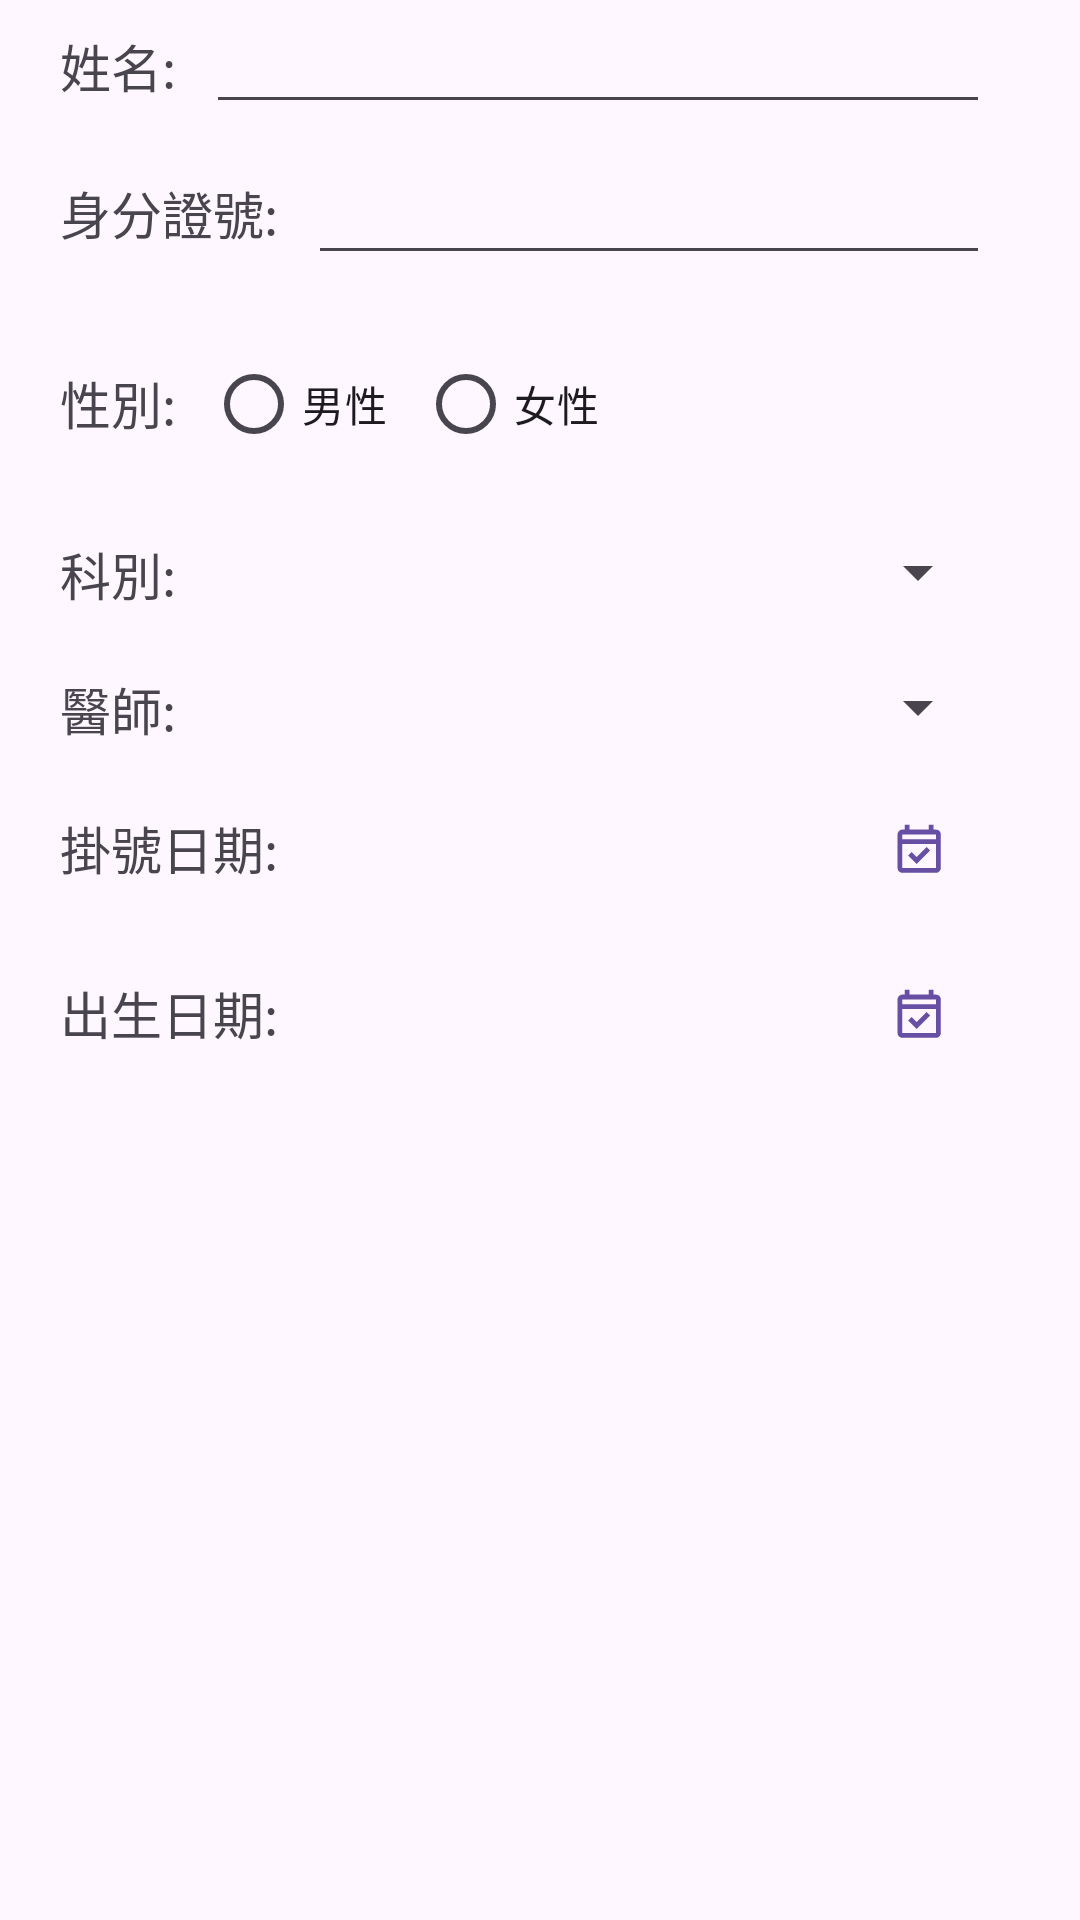

Named icons in this screenshot (1080px x 1920px) and their bounding boxes, [left=x1, top=y1, right=x2, bottom=y2]:
calendar: [left=897, top=824, right=941, bottom=873], [left=897, top=989, right=941, bottom=1038]
